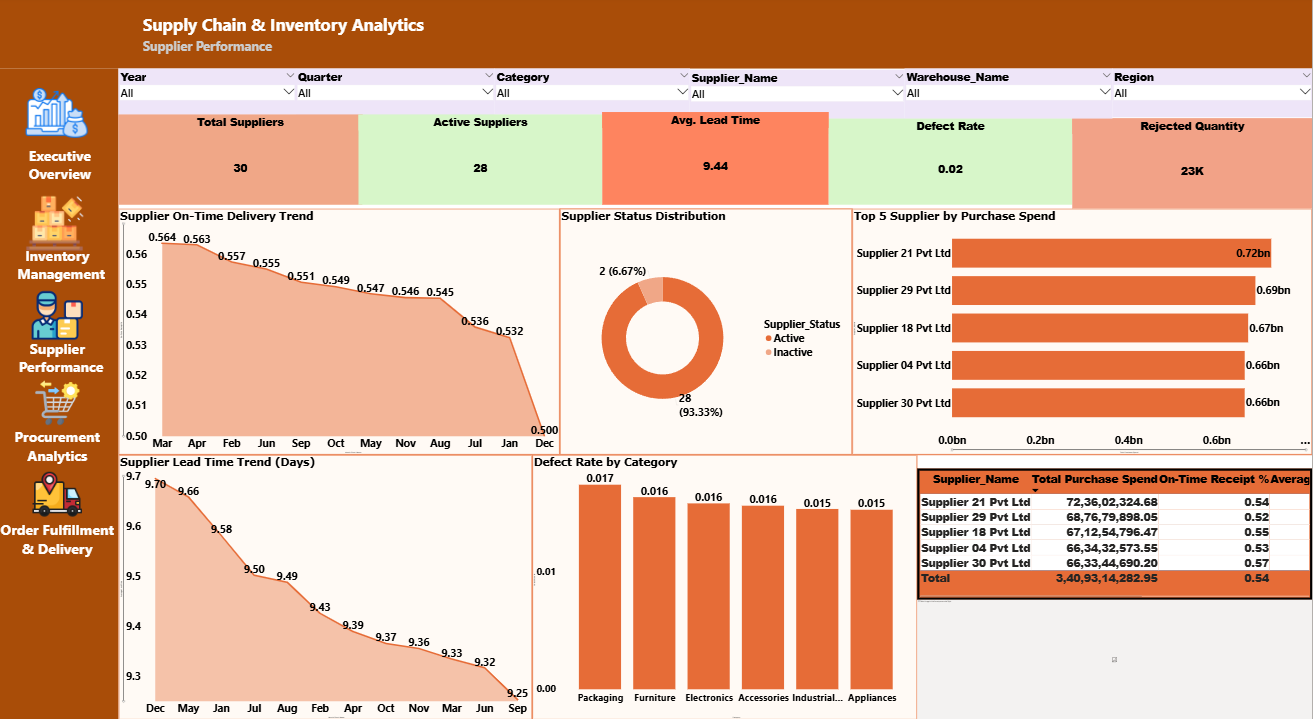

What the dashboard file says about the page in this screenshot:
{"tool":"powerbi","page":{"name":"Page 4","canvas":[9999,5500],"ordinal":3},"visuals":[{"type":"textbox","box":[0,0,10000.9,550.9],"z":0},{"type":"textbox","box":[0,550.9,930.8,4948.2],"z":1000},{"type":"cardVisual","title":"Defect Rate ","fields":{"Data":["Fact_PurchaseOrderDetails.Defect Rate %"]},"box":[6325.4,930.8,1852,655.3],"z":2000},{"type":"cardVisual","title":"Rejected Quantity","fields":{"Data":["Sum(Fact_PurchaseOrderDetails.Rejected_Quantity)"]},"box":[8177.4,930.8,1823.5,683.8],"z":3000},{"type":"slicer","fields":{"Values":["Dim_Date.Year"]},"box":[930.8,550.9,1348.7,351.4],"z":4000},{"type":"slicer","fields":{"Values":["Dim_Date.Quarter"]},"box":[2279.4,550.9,1510.1,370.4],"z":5000},{"type":"slicer","fields":{"Values":["Dim_Products.Category"]},"box":[3789.5,550.9,1481.6,351.4],"z":6000},{"type":"slicer","fields":{"Values":["Dim_Customers.Region"]},"box":[8481.3,550.9,1519.6,370.4],"z":7000},{"type":"slicer","fields":{"Values":["Dim_Suppliers.Supplier_Name"]},"box":[5271.1,560.4,1633.6,370.4],"z":8000},{"type":"slicer","fields":{"Values":["Dim_Warehouses.Warehouse_Name"]},"box":[6904.7,550.9,1576.6,379.9],"z":9000},{"type":"lineChart","title":"Supplier On-Time Delivery Trend","fields":{"Y":["Fact_PurchaseOrderDetails.On-Time Receipt %"],"Category":["Dim_Date.Month Short Name"]},"box":[930.8,1614.6,3352.6,1871],"z":10000},{"type":"donutChart","title":"Supplier Status Distribution ","fields":{"Category":["Dim_Suppliers.Supplier_Status"],"Y":["Count(Dim_Suppliers.Supplier_ID)"]},"box":[4283.4,1614.6,2222.4,1871],"z":11000},{"type":"clusteredBarChart","title":"Top 5 Supplier by Purchase Spend","fields":{"Y":["Fact_PurchaseOrderDetails.Total Purchase Spend"],"Category":["Dim_Suppliers.Supplier_Name"]},"box":[6505.8,1614.6,3495.1,1871],"z":12000},{"type":"lineChart","title":"Supplier Lead Time Trend (Days)","fields":{"Y":["Fact_PurchaseOrderDetails.Average Lead Time"],"Category":["Dim_Date.Month Short Name"]},"box":[930.8,3485.6,3143.7,2013.5],"z":13000},{"type":"clusteredColumnChart","title":"Defect Rate by Category","fields":{"Y":["Fact_PurchaseOrderDetails.Defect Rate %"],"Category":["Dim_Products.Category"]},"box":[4074.5,3485.6,2925.2,2013.5],"z":14000},{"type":"tableEx","title":"Purchase Spend Trend","fields":{"Values":["Dim_Suppliers.Supplier_Name","Fact_PurchaseOrderDetails.Total Purchase Spend","Fact_PurchaseOrderDetails.On-Time Receipt %","Fact_PurchaseOrderDetails.Average Lead Time","Fact_PurchaseOrderDetails.Defect Rate %","Fact_PurchaseOrderDetails.Total Rejected Quantity"]},"box":[6999.7,3590.1,3001.2,997.2],"z":15000},{"type":"cardVisual","title":"Total Suppliers ","fields":{"Data":["Count(Dim_Suppliers.Supplier_ID)"]},"box":[930.8,902.3,1852,683.8],"z":16000},{"type":"cardVisual","title":"Active Suppliers","fields":{"Data":["Dim_Suppliers.Active Suppliers"]},"box":[2754.3,902.3,1852,683.8],"z":17000},{"type":"cardVisual","title":"Avg. Lead Time","fields":{"Data":["Fact_PurchaseOrderDetails.Average Lead Time"]},"box":[4606.3,883.3,1719.1,702.8],"z":18000},{"type":"actionButton","box":[0,0,100,40],"z":19000},{"type":"image","box":[114,645.8,693.3,484.4],"z":19001},{"type":"image","box":[7000,4587,2999,912],"z":19002},{"type":"image","box":[114,1510.1,664.8,436.9],"z":19003},{"type":"image","box":[265.9,2915.8,398.9,351.4],"z":19004},{"type":"image","box":[265.9,2231.9,398.9,389.4],"z":19005},{"type":"image","box":[265.9,3590.1,398.9,389.4],"z":19006}]}

Visuals, with their boxes on the page's 9999x5500 design canvas (x1, y1, x2, y2). These are canvas units, not pixel positions in the 1314x719 screenshot, which may show the page scaled, cropped or inside an application window:
textbox: bbox=[0, 0, 10001, 551]
textbox: bbox=[0, 551, 931, 5499]
"Defect Rate " cardVisual: bbox=[6325, 931, 8177, 1586]
"Rejected Quantity" cardVisual: bbox=[8177, 931, 10001, 1615]
slicer - Dim_Date.Year: bbox=[931, 551, 2280, 902]
slicer - Dim_Date.Quarter: bbox=[2279, 551, 3790, 921]
slicer - Dim_Products.Category: bbox=[3790, 551, 5271, 902]
slicer - Dim_Customers.Region: bbox=[8481, 551, 10001, 921]
slicer - Dim_Suppliers.Supplier_Name: bbox=[5271, 560, 6905, 931]
slicer - Dim_Warehouses.Warehouse_Name: bbox=[6905, 551, 8481, 931]
"Supplier On-Time Delivery Trend" lineChart: bbox=[931, 1615, 4283, 3486]
"Supplier Status Distribution " donutChart: bbox=[4283, 1615, 6506, 3486]
"Top 5 Supplier by Purchase Spend" clusteredBarChart: bbox=[6506, 1615, 10001, 3486]
"Supplier Lead Time Trend (Days)" lineChart: bbox=[931, 3486, 4074, 5499]
"Defect Rate by Category" clusteredColumnChart: bbox=[4074, 3486, 7000, 5499]
"Purchase Spend Trend" tableEx: bbox=[7000, 3590, 10001, 4587]
"Total Suppliers " cardVisual: bbox=[931, 902, 2783, 1586]
"Active Suppliers" cardVisual: bbox=[2754, 902, 4606, 1586]
"Avg. Lead Time" cardVisual: bbox=[4606, 883, 6325, 1586]
actionButton: bbox=[0, 0, 100, 40]
image: bbox=[114, 646, 807, 1130]
image: bbox=[7000, 4587, 9999, 5499]
image: bbox=[114, 1510, 779, 1947]
image: bbox=[266, 2916, 665, 3267]
image: bbox=[266, 2232, 665, 2621]
image: bbox=[266, 3590, 665, 3980]
